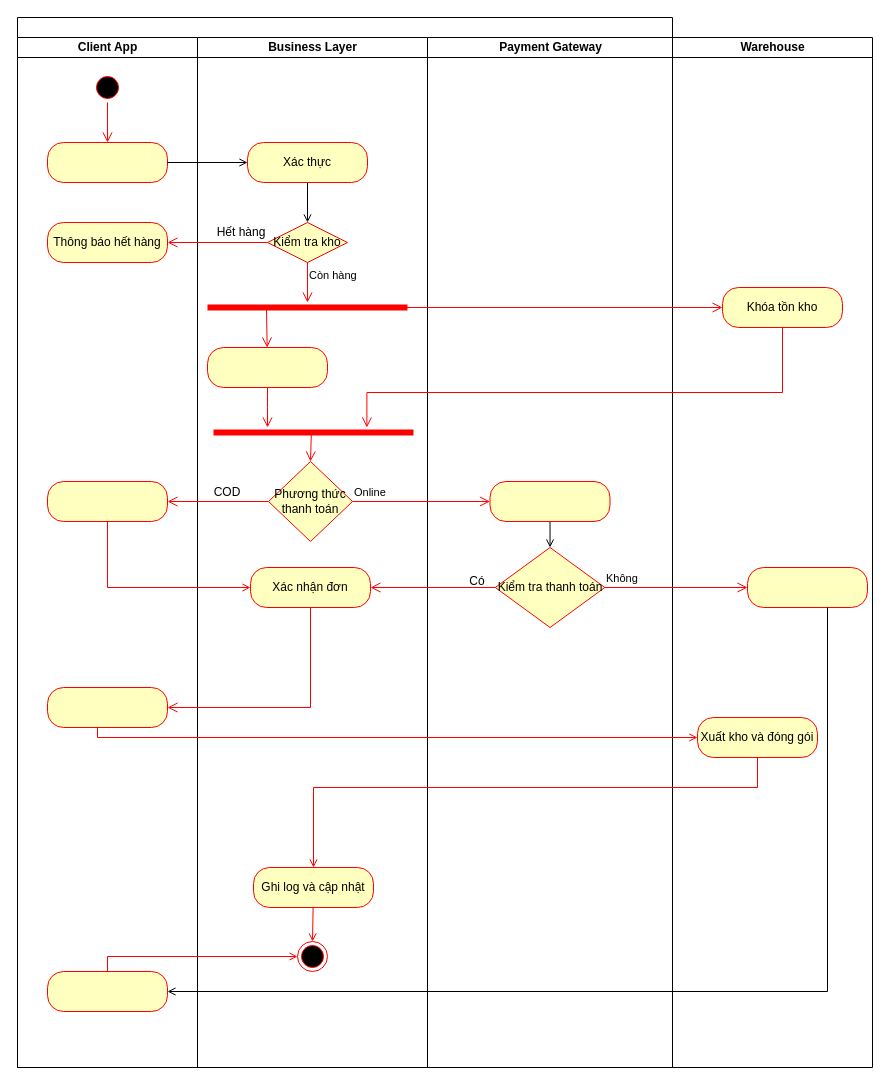
Some shapes in this 890 by 1085 pixel diagram are drawn without their labels. Here are the shapes that lost their labels. From the top down, the centre of each, then its label:
At (x=107, y=162): "Chọn sản phẩm".
At (x=267, y=367): "Tạo đơn tạm".
At (x=107, y=501): "Xác nhận COD".
At (x=549, y=501): "Xử lý thanh toán".
At (x=807, y=587): "Giải phóng kho".
At (x=107, y=707): "Hiển thị xác nhận".
At (x=107, y=991): "Thông báo thất bại".
